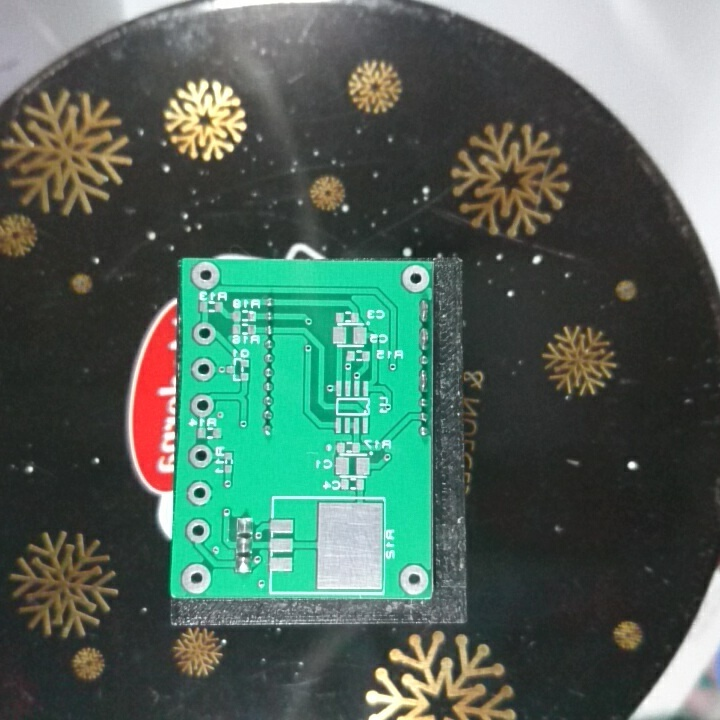F: (179, 561, 214, 595), (397, 563, 431, 597), (190, 261, 223, 290), (401, 263, 431, 294), (187, 440, 216, 472), (185, 479, 213, 508), (189, 392, 217, 418), (183, 517, 211, 543), (191, 356, 217, 382), (191, 321, 217, 346)
P: (416, 296, 431, 325), (416, 367, 432, 394), (417, 326, 432, 352)
